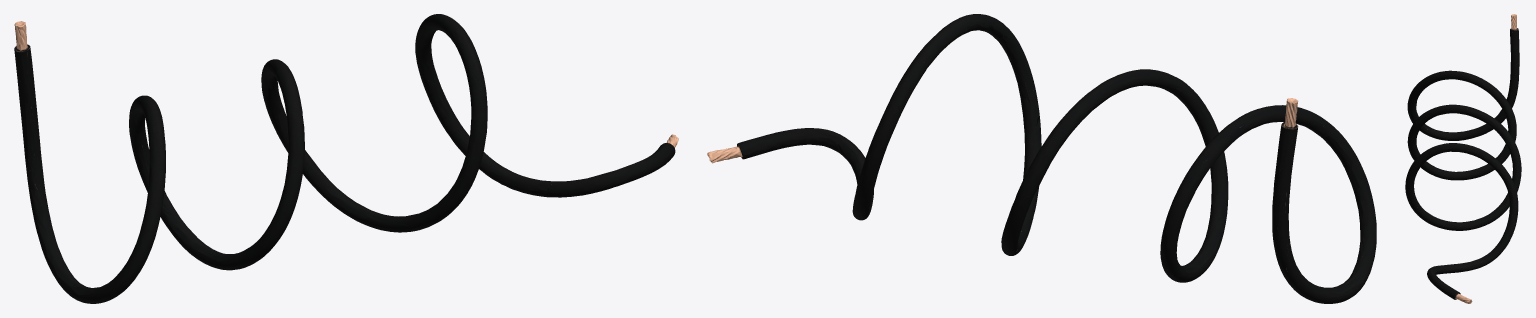
Rendered from Meshy_AI_Connecting_Wire_Remes_0924171232_texture.glb.
3 views of the same model, side by side, from view 1: azimuth 30°, elevation 25°; view 2: azimuth 150°, elevation 25°; view 3: azimuth 270°, elevation 25° (orthographic). The views are drawn at different scales.
Parts seen in each view (by area): view 1: output_unwrapped; view 2: output_unwrapped; view 3: output_unwrapped.
Boxes of the visible parts, <box> form: output_unwrapped: <box>14,14,678,303</box>; output_unwrapped: <box>707,14,1376,303</box>; output_unwrapped: <box>1405,14,1521,303</box>.
Bounding box in the file's own units: 1.9 × 0.733 × 0.5726.
Materials: 1 (1 with a texture image).
